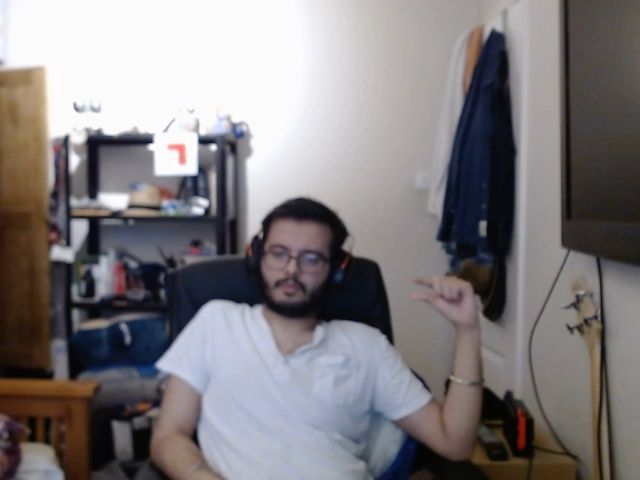Small: (403, 271, 495, 336)
